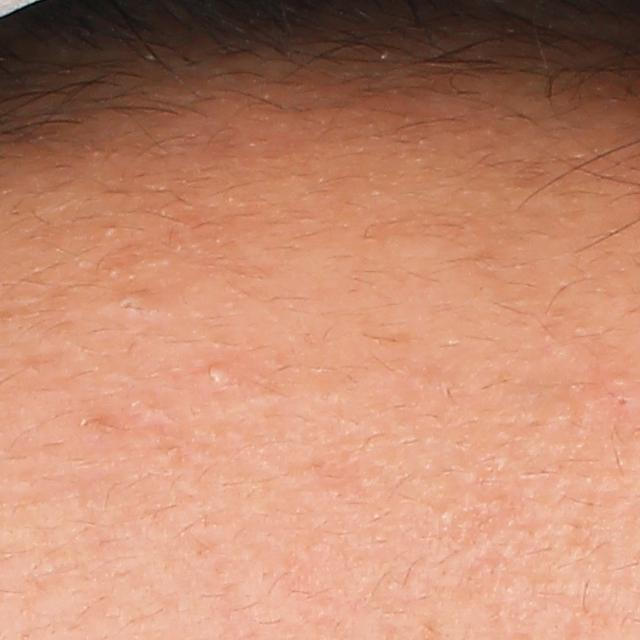comedo: (113, 289, 150, 325), (611, 391, 633, 411)
